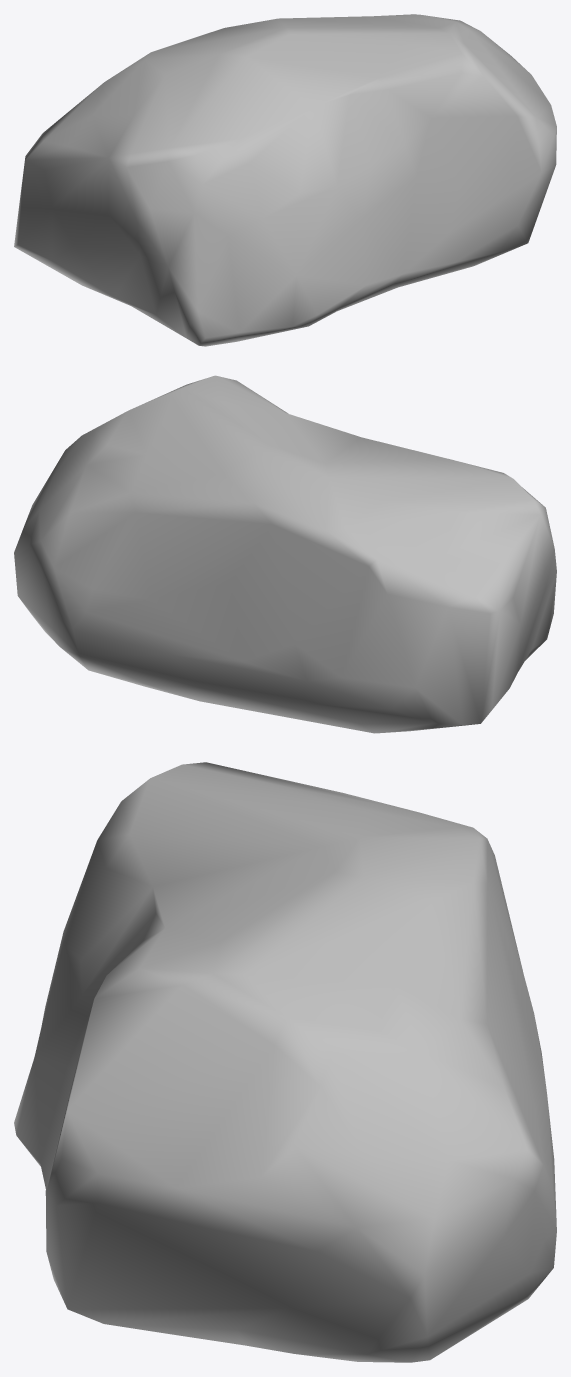
Rendered from Rock_4b.gltf.
3 views of the same model, one above another, from view 1: azimuth 30°, elevation 25°; view 2: azimuth 150°, elevation 25°; view 3: azimuth 270°, elevation 25° (orthographic). The views are drawn at different scales.
Visible parts, largest first — view 1: Rock_4b; view 2: Rock_4b; view 3: Rock_4b.
Boxes of the visible parts, left/top/right/bottom form: Rock_4b: left=14, top=14, right=556, bottom=346; Rock_4b: left=14, top=375, right=556, bottom=733; Rock_4b: left=14, top=762, right=556, bottom=1362.
Size of the model in its own units: 49.93 by 23.38 by 30.55.
Materials: 1 (1 with a texture image).
